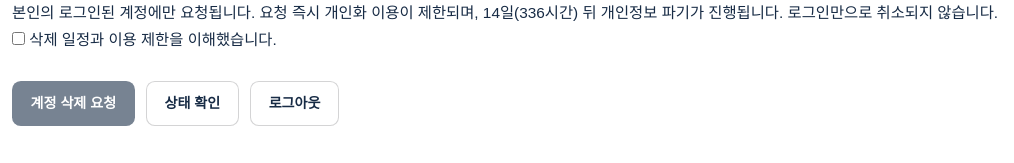
canonical account deletion boundary › failure never displays success or raw exception
The image size is (1014, 163).
Step 1. Click the checkbox → coordinates (18, 38), box [12,32,25,45]
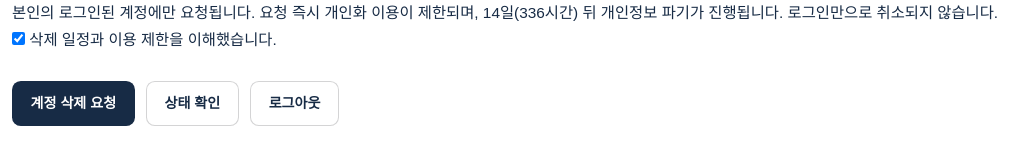
Step 2. Click the button "계정 삭제 요청" → coordinates (73, 103), box [12,81,135,126]
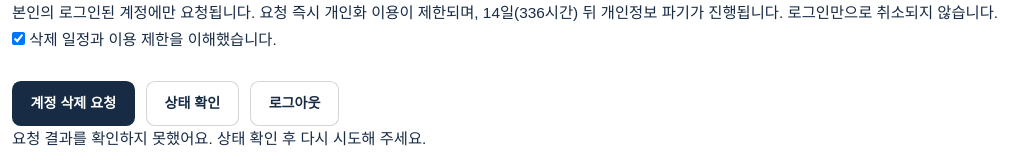
Result: the message "요청 결과를 확인하지 못했어요. 상태 확인 후 다시 시도해 주세요." is shown at [12,130,426,147]
